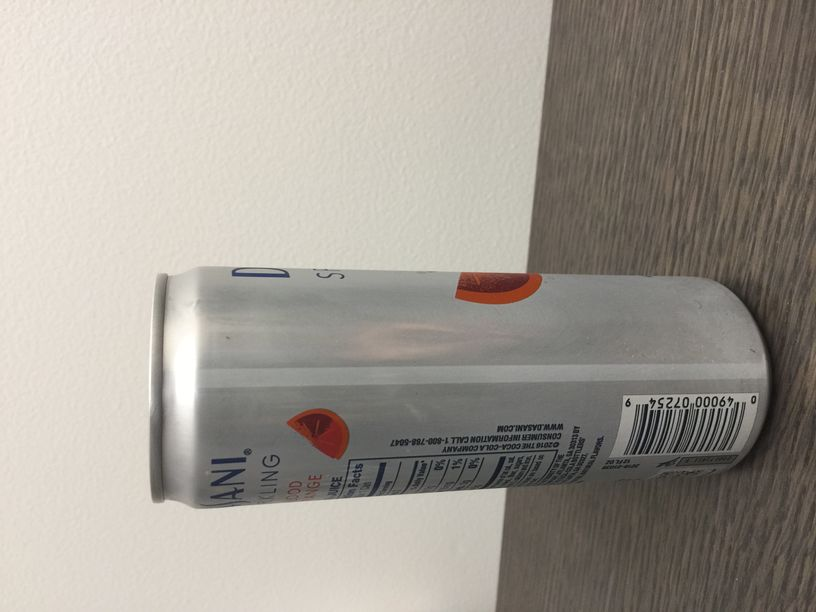orange: (282, 402, 356, 504), (422, 269, 568, 316)
